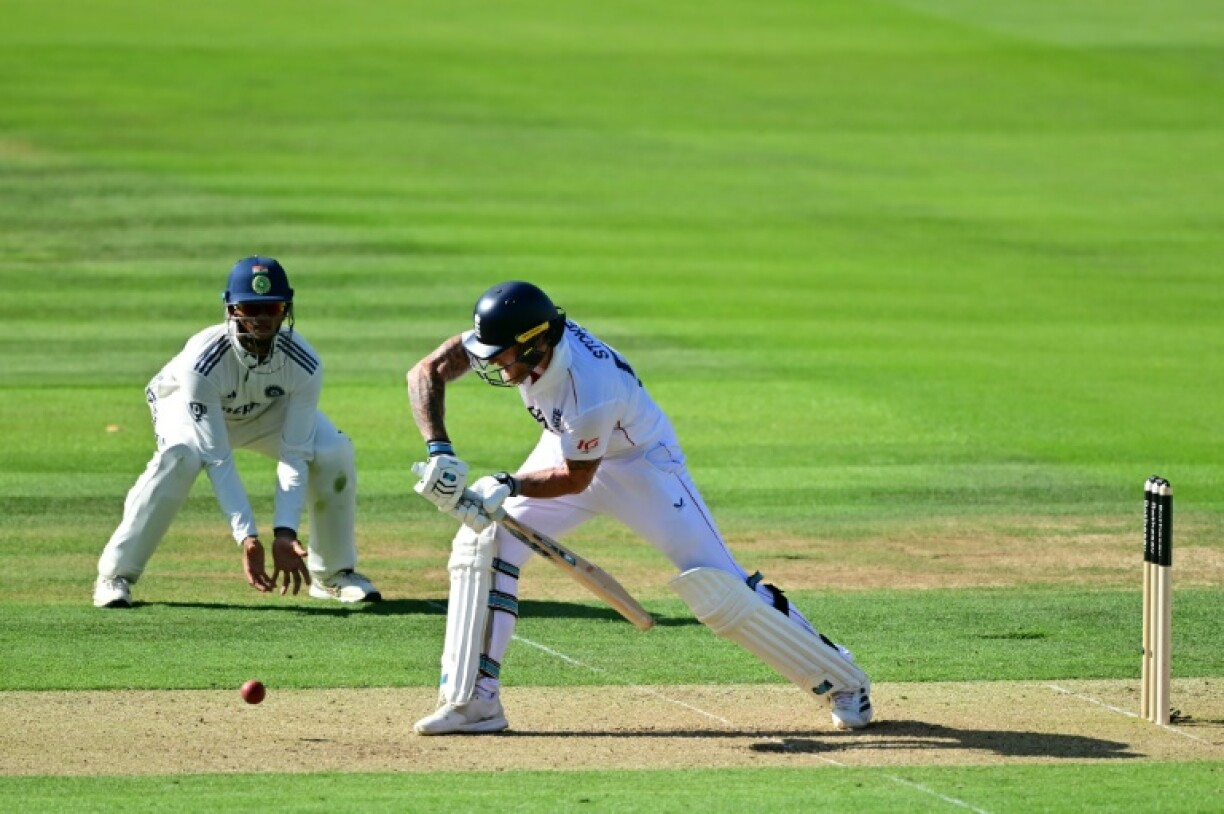Defence: (98, 64, 1018, 794)
